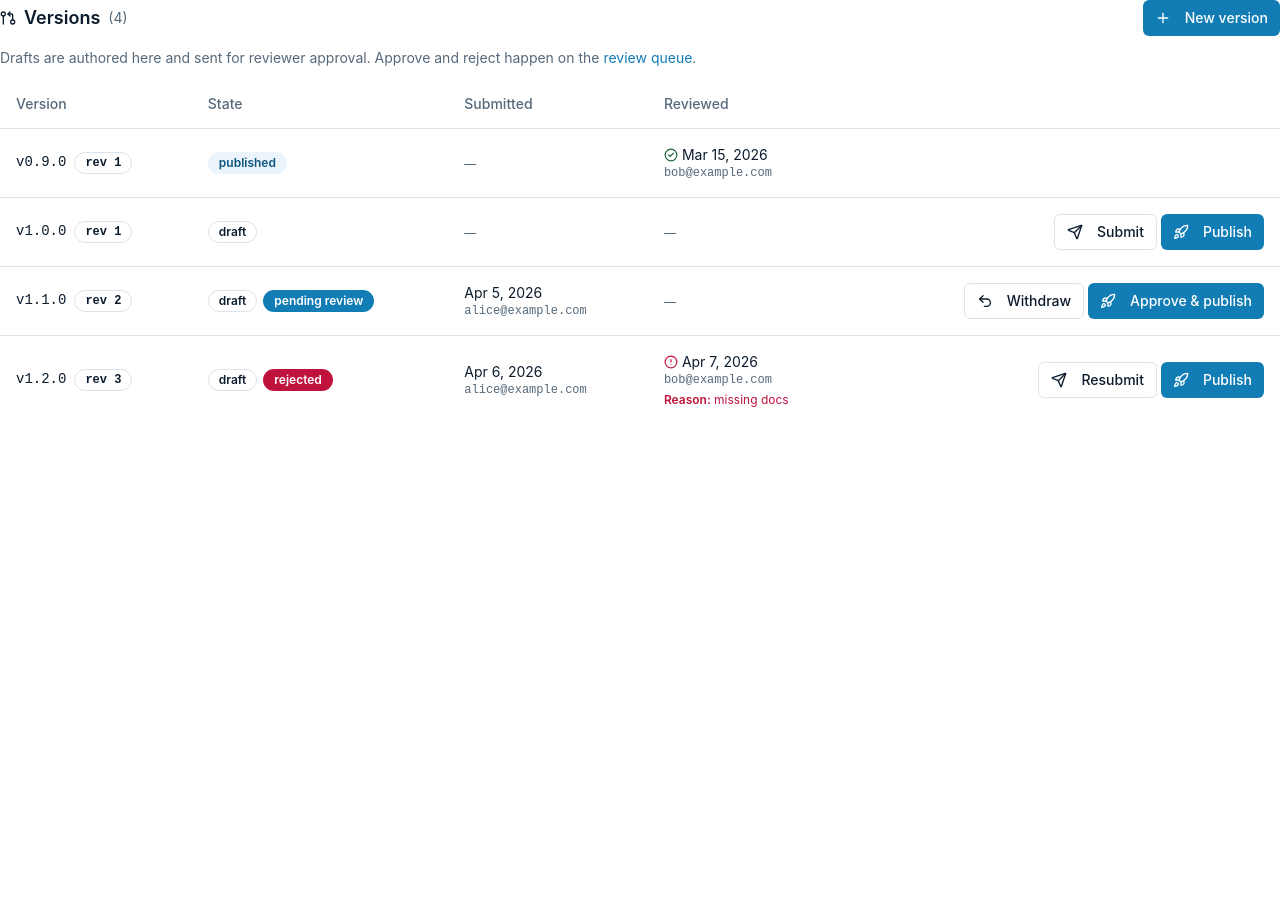
VersionsSection › offers no public-release request on an already-public entry
This screenshot has width=1280, height=900.
Click the button "Submit".
click(1106, 232)  # box [1054,214,1157,250]
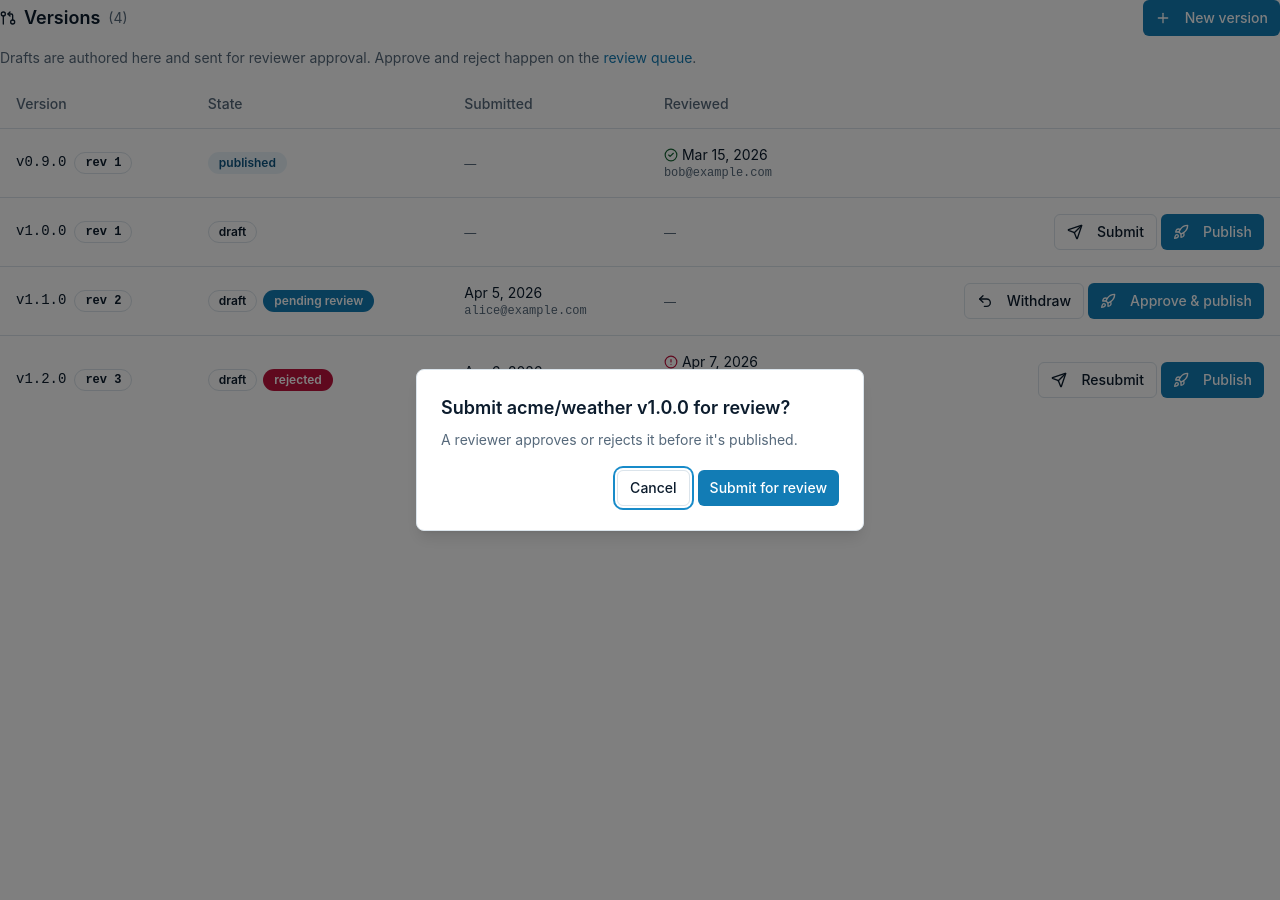
Check: the heading "Submit acme/weather v1.0.0 for review?" is shown, box [441,394,839,422]
